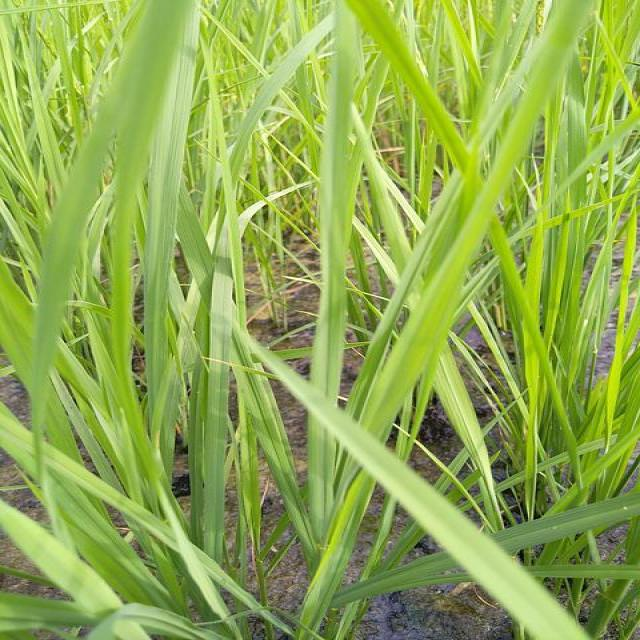Rice: (0, 0, 196, 433), (363, 461, 593, 640), (459, 117, 566, 456), (351, 206, 466, 457), (307, 2, 359, 543), (0, 499, 151, 640), (190, 209, 257, 524), (196, 45, 303, 210), (154, 522, 287, 639), (363, 2, 453, 166), (513, 2, 595, 116), (0, 435, 122, 499)
